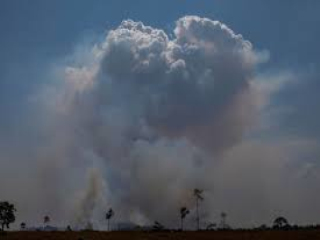smoke: (62, 15, 279, 170)
